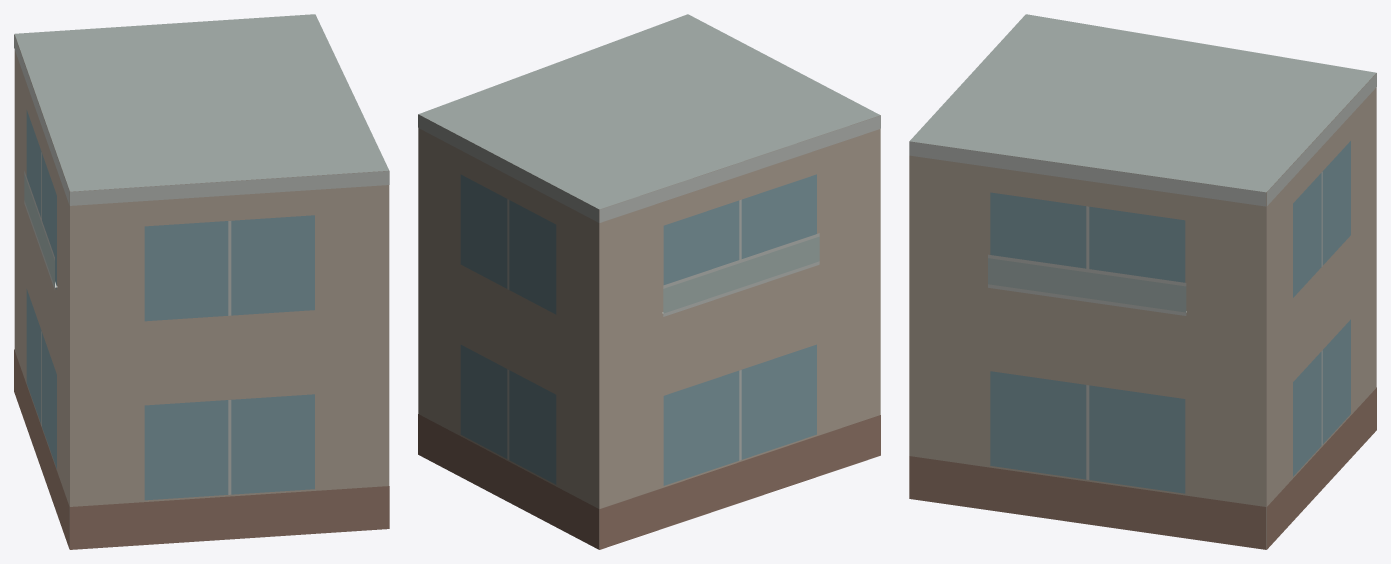
The model's file is survey-upis-32557108.glb.
The picture shows the model from 3 angles, left to right: view 1: azimuth 30°, elevation 25°; view 2: azimuth 150°, elevation 25°; view 3: azimuth 270°, elevation 25°; orthographic projection. The views are drawn at different scales.
Visible parts, largest first — view 1: survey-upis-32557108.tmp; view 2: survey-upis-32557108.tmp; view 3: survey-upis-32557108.tmp.
Part boxes in pixels (<box>): survey-upis-32557108.tmp: <box>14,14,389,549</box>; survey-upis-32557108.tmp: <box>418,14,880,549</box>; survey-upis-32557108.tmp: <box>909,14,1376,549</box>.
Size of the model in its own units: 6.54 by 6.1 by 7.24.
